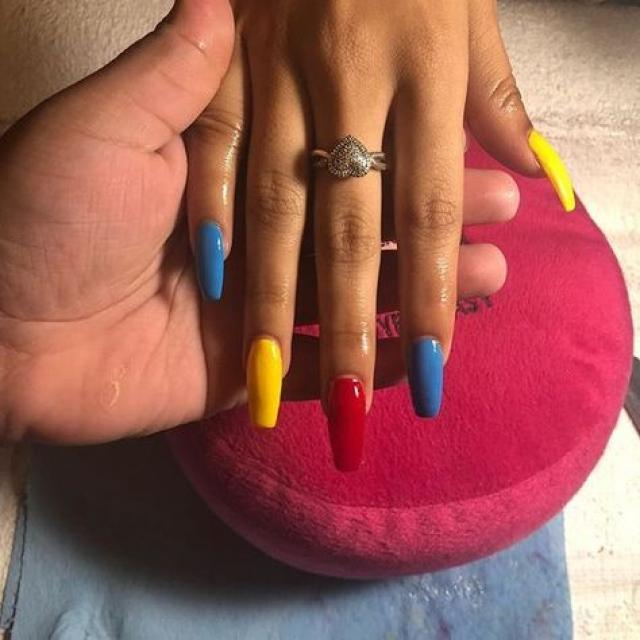Fingernail: (328, 376, 365, 471), (530, 132, 575, 210), (248, 336, 282, 429), (410, 337, 442, 417), (197, 221, 224, 300)
